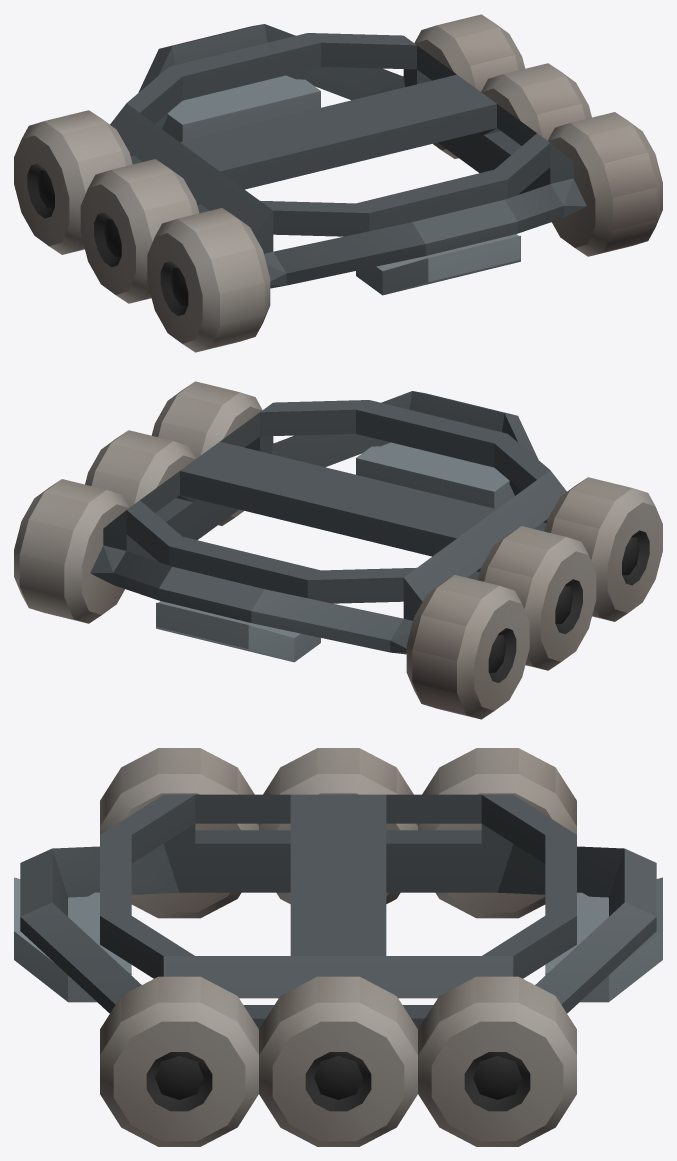
File: mobile_base_frame.gltf
3 views of the same model, one above another, from view 1: azimuth 30°, elevation 25°; view 2: azimuth 150°, elevation 25°; view 3: azimuth 270°, elevation 25° (orthographic). The views are drawn at different scales.
Visible parts, largest first — view 1: mobile_base_frame, mobile_base_frame_wheel_right_front, mobile_base_frame_wheel_left_front, mobile_base_frame_wheel_right_middle, mobile_base_frame_wheel_right_rear, mobile_base_frame_wheel_left_rear, mobile_base_frame_wheel_left_middle; view 2: mobile_base_frame, mobile_base_frame_wheel_right_rear, mobile_base_frame_wheel_left_rear, mobile_base_frame_wheel_right_middle, mobile_base_frame_wheel_right_front, mobile_base_frame_wheel_left_front, mobile_base_frame_wheel_left_middle; view 3: mobile_base_frame, mobile_base_frame_wheel_left_front, mobile_base_frame_wheel_left_middle, mobile_base_frame_wheel_left_rear, mobile_base_frame_wheel_right_front, mobile_base_frame_wheel_right_rear, mobile_base_frame_wheel_right_middle.
Boxes of the visible parts, x1,y1,x2,y2 form: mobile_base_frame: (110, 24, 586, 295); mobile_base_frame_wheel_right_front: (147, 208, 270, 352); mobile_base_frame_wheel_left_front: (547, 112, 662, 256); mobile_base_frame_wheel_right_middle: (80, 159, 198, 303); mobile_base_frame_wheel_right_rear: (14, 110, 132, 254); mobile_base_frame_wheel_left_rear: (414, 14, 525, 158); mobile_base_frame_wheel_left_middle: (481, 63, 591, 140); mobile_base_frame: (90, 391, 566, 662); mobile_base_frame_wheel_right_rear: (406, 575, 529, 719); mobile_base_frame_wheel_left_rear: (14, 479, 129, 623); mobile_base_frame_wheel_right_middle: (478, 526, 596, 670); mobile_base_frame_wheel_right_front: (544, 477, 662, 621); mobile_base_frame_wheel_left_front: (151, 381, 262, 525); mobile_base_frame_wheel_left_middle: (85, 430, 195, 507); mobile_base_frame: (14, 794, 662, 1028); mobile_base_frame_wheel_left_front: (100, 976, 258, 1146); mobile_base_frame_wheel_left_middle: (259, 976, 417, 1146); mobile_base_frame_wheel_left_rear: (418, 976, 576, 1146); mobile_base_frame_wheel_right_front: (100, 748, 258, 918); mobile_base_frame_wheel_right_rear: (418, 748, 576, 918); mobile_base_frame_wheel_right_middle: (259, 748, 417, 903).
Bounding box in the file's own units: 2 × 0.5 × 2.04.
Materials: 1 (1 with a texture image).
